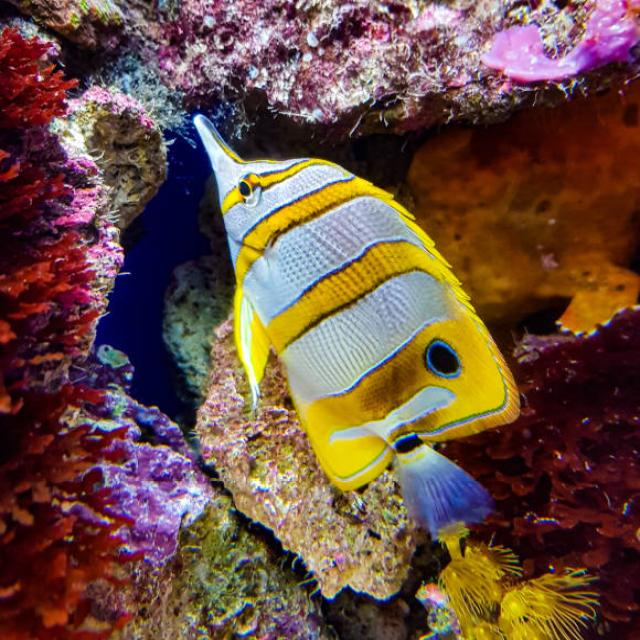ButterflyFish: (192, 114, 520, 529)
